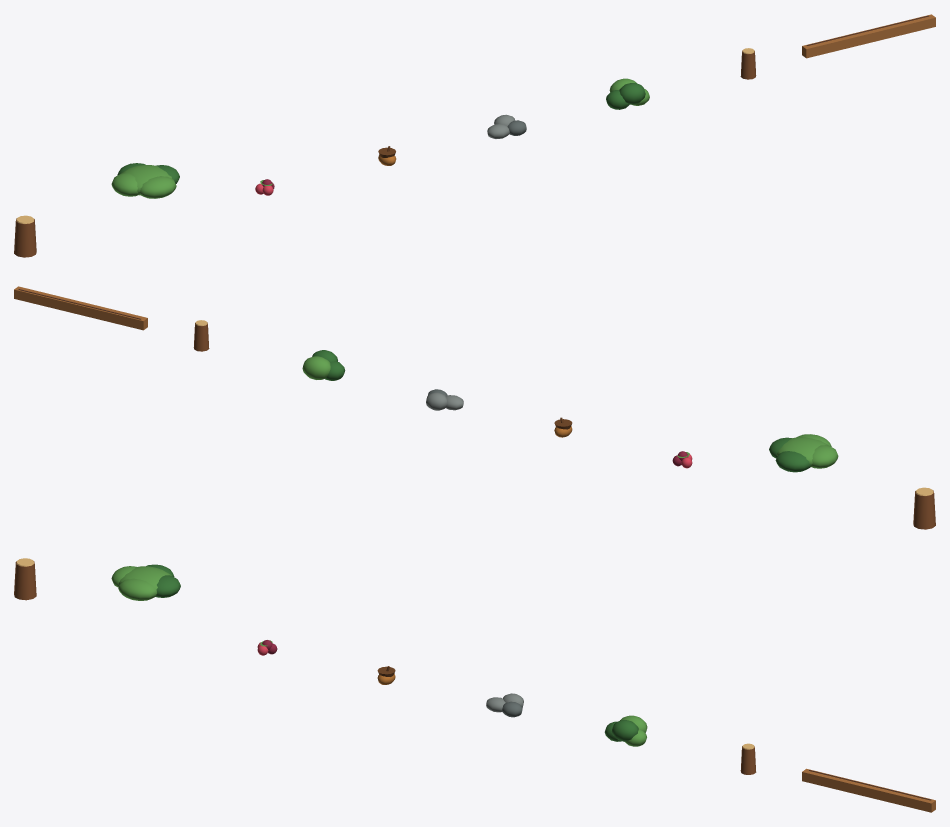
File: forest-props.glb
The picture shows the model from 3 angles, top to bottom: view 1: azimuth 30°, elevation 25°; view 2: azimuth 150°, elevation 25°; view 3: azimuth 330°, elevation 25°; orthographic projection.
Visible parts, largest first — view 1: fence-rectangular-panel, tree-trunk-main, canopy-south, canopy-center; view 2: fence-rectangular-panel, tree-trunk-main, canopy-center, canopy-north, bush-clump-3; view 3: fence-rectangular-panel, tree-trunk-main, canopy-south, canopy-center.
Boxes of the visible parts, x1=… form: fence-rectangular-panel: x1=802, y1=14, x2=935, y2=58; tree-trunk-main: x1=14, y1=218, x2=36, y2=257; canopy-south: x1=139, y1=176, x2=176, y2=198; canopy-center: x1=121, y1=165, x2=171, y2=195; fence-rectangular-panel: x1=14, y1=286, x2=147, y2=330; tree-trunk-main: x1=913, y1=490, x2=935, y2=529; canopy-center: x1=776, y1=437, x2=828, y2=467; canopy-north: x1=775, y1=451, x2=810, y2=472; bush-clump-3: x1=302, y1=356, x2=330, y2=379; fence-rectangular-panel: x1=802, y1=768, x2=935, y2=812; tree-trunk-main: x1=14, y1=561, x2=36, y2=600; canopy-south: x1=118, y1=578, x2=156, y2=600; canopy-center: x1=118, y1=566, x2=171, y2=591.
Bounding box in the file's own units: 45.7 × 2.53 × 3.1.
